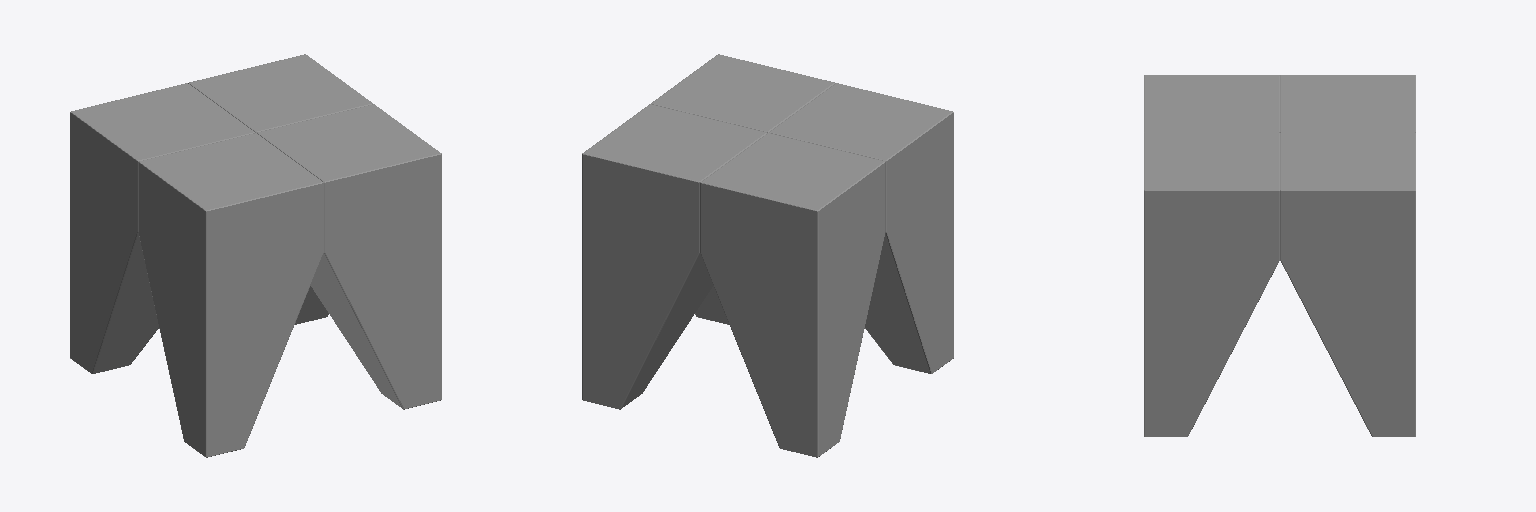
Rendered from woodLog.obj.
The picture shows the model from 3 angles: view 1: azimuth 30°, elevation 25°; view 2: azimuth 150°, elevation 25°; view 3: azimuth 270°, elevation 25°; orthographic projection.
Visible parts, largest first — view 1: table_log; view 2: table_log; view 3: table_log.
Part boxes in pixels (bbox=[...]): table_log: bbox=[70, 54, 441, 457]; table_log: bbox=[582, 54, 953, 457]; table_log: bbox=[1144, 75, 1415, 436].
Bounding box in the file's own units: 1 × 1 × 1.